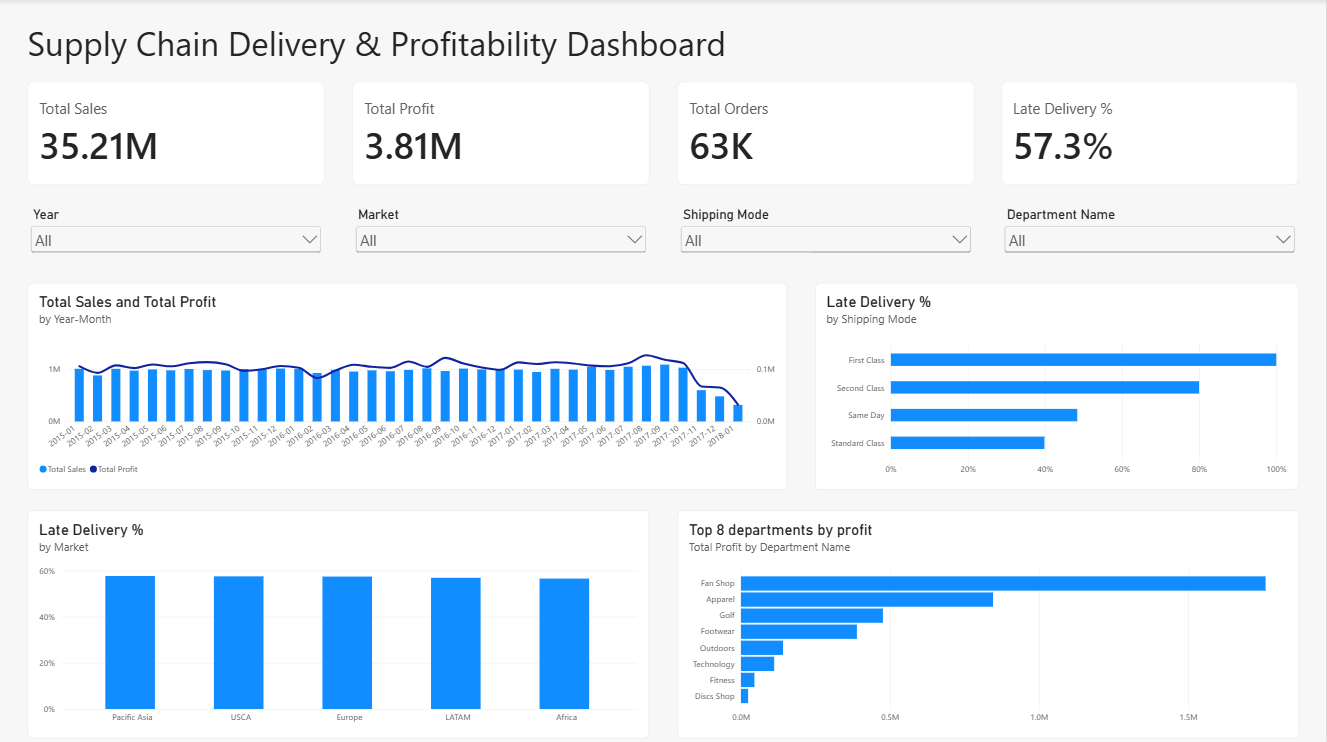

Layout of this report page (visuals, bound fields, positions):
{"tool":"powerbi","page":{"name":"Overview","canvas":[1920,1080],"ordinal":0},"visuals":[{"type":"cardVisual","fields":{"Data":["Orders.Total Sales"]},"box":[40,120,430,150],"z":0},{"type":"cardVisual","fields":{"Data":["Orders.Total Profit"]},"box":[510,120,430,150],"z":1000},{"type":"cardVisual","fields":{"Data":["Orders.Total Orders"]},"box":[980,120,430,150],"z":2000},{"type":"cardVisual","fields":{"Data":["Orders.Late Delivery %"]},"box":[1450,120,430,150],"z":3000},{"type":"slicer","fields":{"Values":["Date Table.Year"]},"box":[40,300,430,80],"z":3001},{"type":"slicer","fields":{"Values":["Orders.Market"]},"box":[510,300,430,80],"z":3002},{"type":"slicer","fields":{"Values":["Orders.Shipping Mode"]},"box":[980,300,430,80],"z":3003},{"type":"slicer","fields":{"Values":["Products.Department Name"]},"box":[1450,300,430,80],"z":3004},{"type":"lineClusteredColumnComboChart","fields":{"Category":["Date Table.Year-Month"],"Y":["Orders.Total Sales"],"Y2":["Orders.Total Profit"]},"box":[40,410,1100,300],"z":3005},{"type":"clusteredBarChart","fields":{"Category":["Orders.Shipping Mode"],"Y":["Orders.Late Delivery %"]},"box":[1180,410,700,300],"z":3006},{"type":"clusteredColumnChart","fields":{"Category":["Orders.Market"],"Y":["Orders.Late Delivery %"]},"box":[40,740,900,330],"z":3007},{"type":"clusteredBarChart","title":"Top 8 departments by profit","fields":{"Category":["Products.Department Name"],"Y":["Orders.Total Profit"]},"box":[980,740,900,330],"z":3008},{"type":"textbox","box":[40,30,1400,70],"z":3009}]}

Visuals, with their boxes in screenshot pixels (x1, y1, x2, y2), scaled from the page's 1920x1080 canvas onto the 1327x742 screenshot:
cardVisual - Orders.Total Sales: x1=28, y1=82, x2=325, y2=186
cardVisual - Orders.Total Profit: x1=352, y1=82, x2=650, y2=186
cardVisual - Orders.Total Orders: x1=677, y1=82, x2=975, y2=186
cardVisual - Orders.Late Delivery %: x1=1002, y1=82, x2=1299, y2=186
slicer - Date Table.Year: x1=28, y1=206, x2=325, y2=261
slicer - Orders.Market: x1=352, y1=206, x2=650, y2=261
slicer - Orders.Shipping Mode: x1=677, y1=206, x2=975, y2=261
slicer - Products.Department Name: x1=1002, y1=206, x2=1299, y2=261
lineClusteredColumnComboChart - Date Table.Year-Month x Orders.Total Sales: x1=28, y1=282, x2=788, y2=488
clusteredBarChart - Orders.Shipping Mode x Orders.Late Delivery %: x1=816, y1=282, x2=1299, y2=488
clusteredColumnChart - Orders.Market x Orders.Late Delivery %: x1=28, y1=508, x2=650, y2=735
"Top 8 departments by profit" clusteredBarChart: x1=677, y1=508, x2=1299, y2=735
textbox: x1=28, y1=21, x2=995, y2=69
